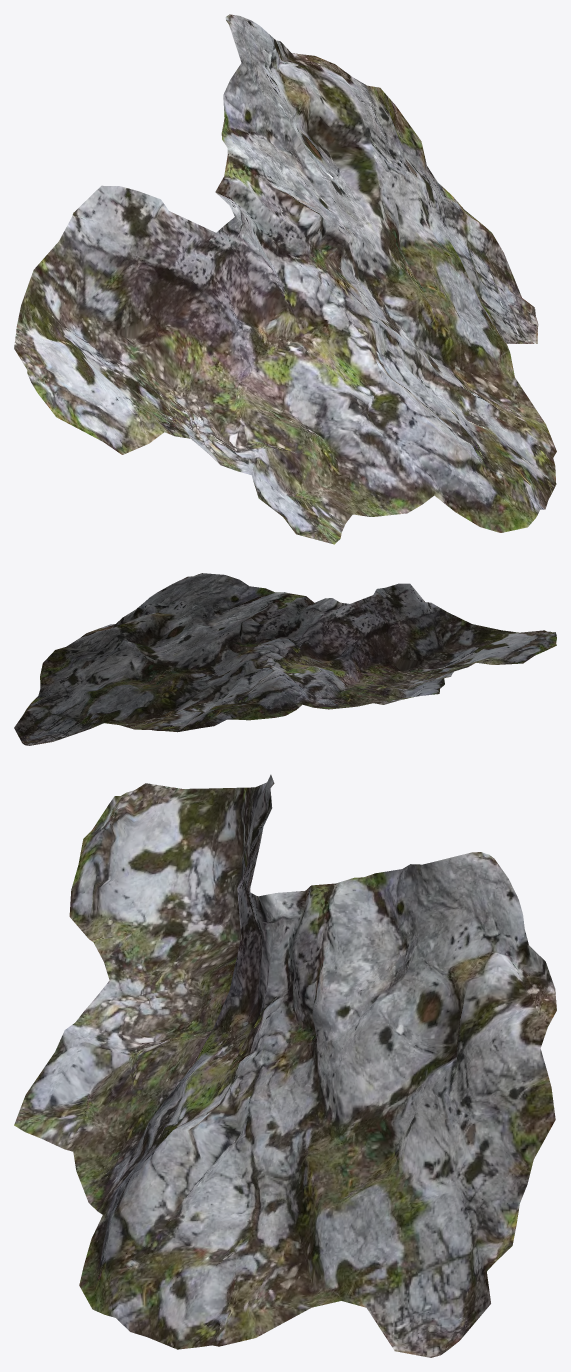
File: Mossy_Formation_3.glb
3 views of the same model, one above another, from view 1: azimuth 30°, elevation 25°; view 2: azimuth 150°, elevation 25°; view 3: azimuth 270°, elevation 25° (orthographic). The views are drawn at different scales.
Parts seen in each view (by area): view 1: Mossy_Formation_3; view 2: Mossy_Formation_3; view 3: Mossy_Formation_3.
Part boxes in pixels (x1,y1,x2,y2): Mossy_Formation_3: (14, 14, 556, 544); Mossy_Formation_3: (14, 573, 556, 745); Mossy_Formation_3: (14, 774, 556, 1357).
Bounding box in the file's own units: 1.72 × 0.977 × 1.18.
Materials: 1 (1 with a texture image).
